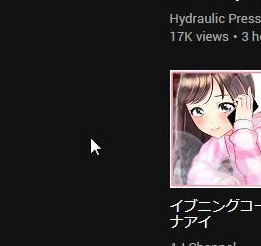cursor: (89, 137, 102, 156)
